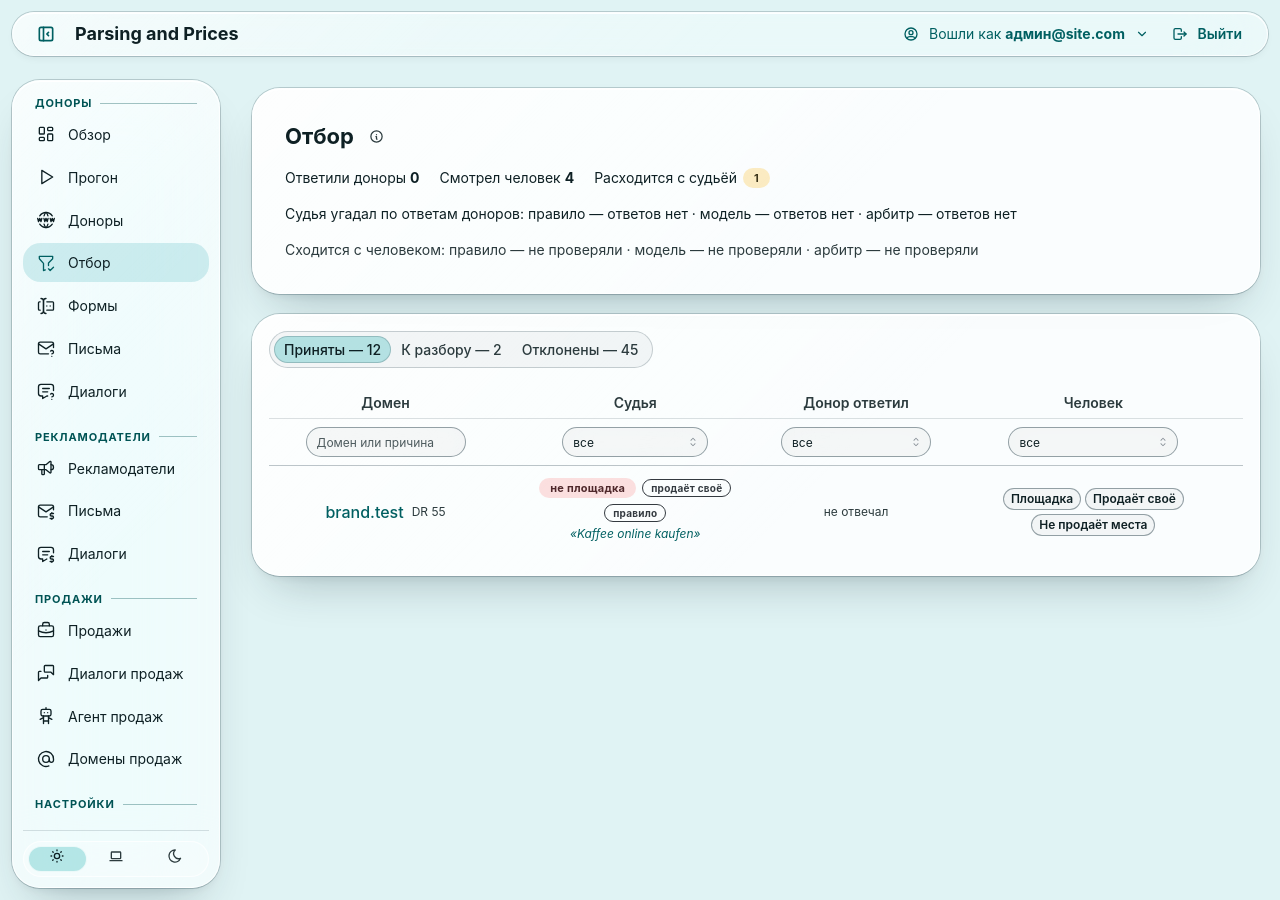
Test case: отбор: фильтры под колонками › фильтр судьи называет слой словом значка и объясняет его в самом списке
Expected: the link "brand.test" is shown, [326,500,404,525]
Click the field named "Кто вынес вердикт": [635, 442] box [562,427,708,457]
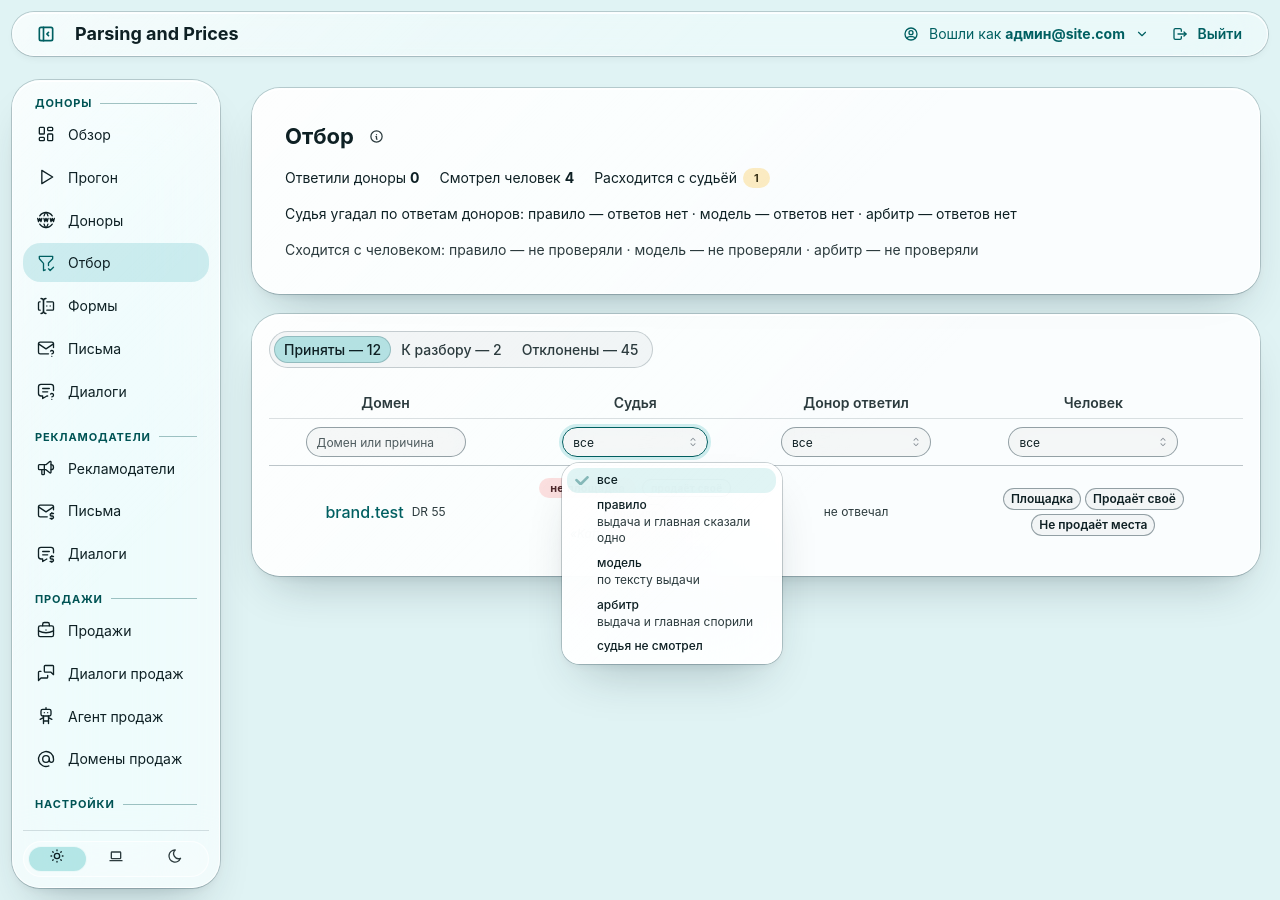
Result: the option "правило выдача и главная сказали одно" is shown at [597,497,751,546]
Result: the option "арбитр выдача и главная спорили" is shown at [597,597,753,629]
Result: the option "судья не смотрел" is shown at [597,638,703,653]
